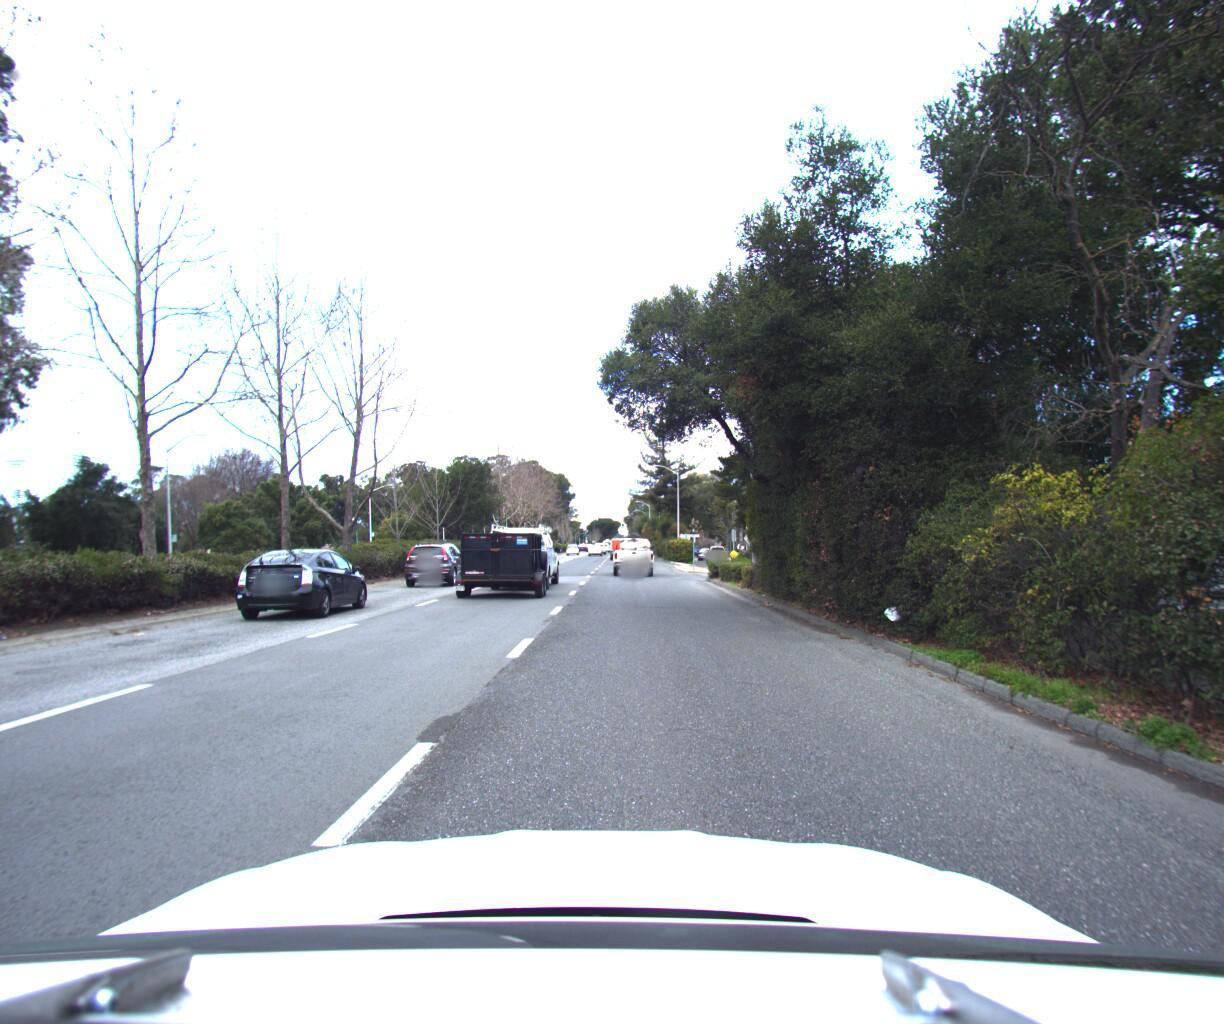car: (234, 542, 373, 619), (450, 508, 566, 597), (403, 537, 470, 584), (609, 526, 656, 571), (705, 535, 729, 553)
other_vehicle: (1113, 488, 1224, 716)
